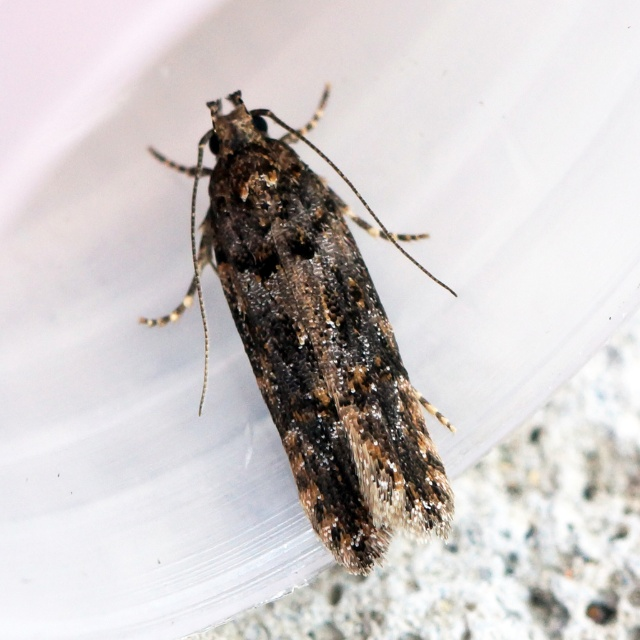Moths and butterflies: (136, 78, 457, 583)
